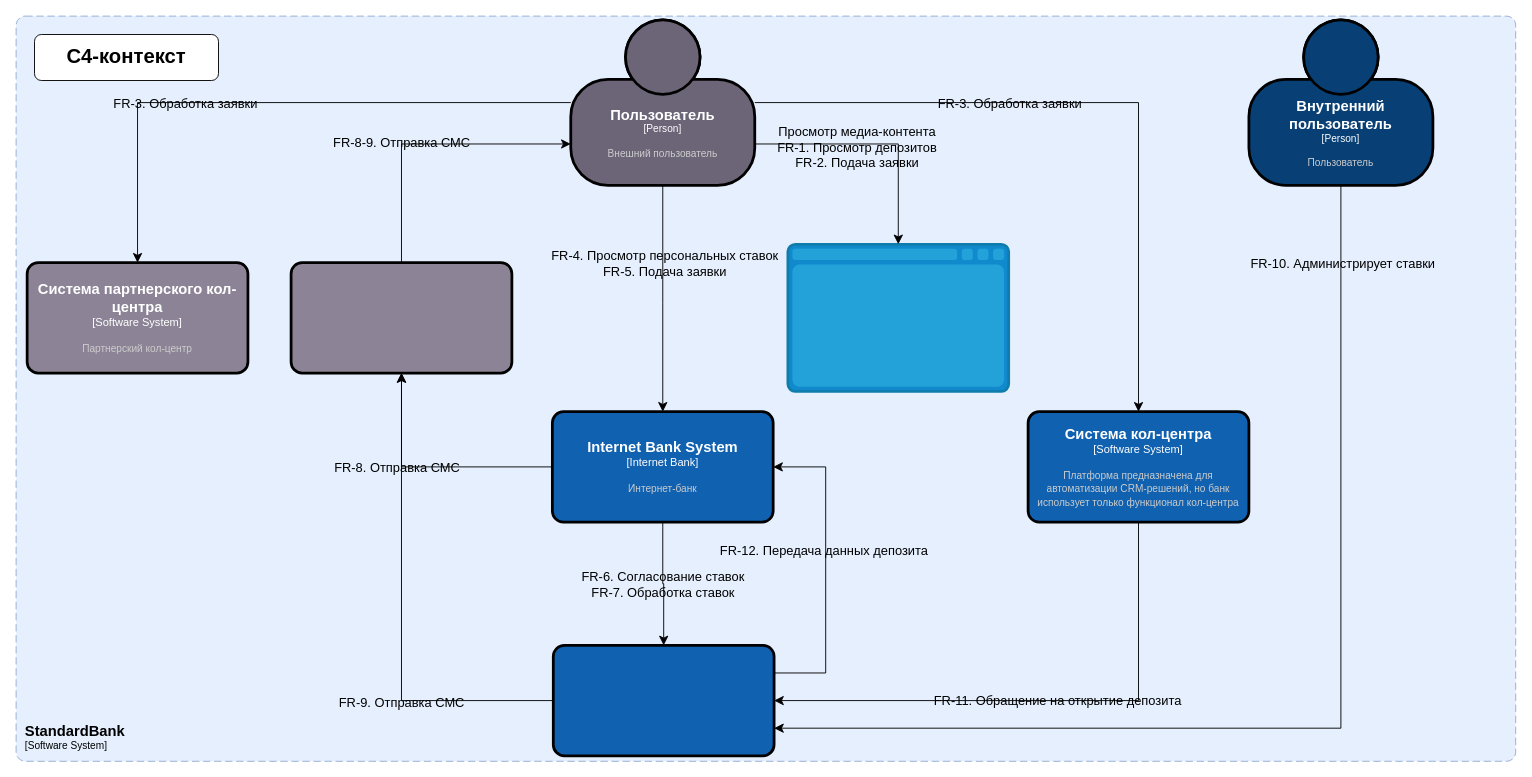
Image size: 1532x777. Some labels were removed from this diagram. Each missing label, with the centre of its shape:
ABS [ABS] Автоматизированная банковская система (АБС): (663,700)
Сайт [Container: PHP, React.js] Собственная разработка банка: (898,317)
Система телеком-оператора [Software System] Система телеком-оператора: (401,317)
